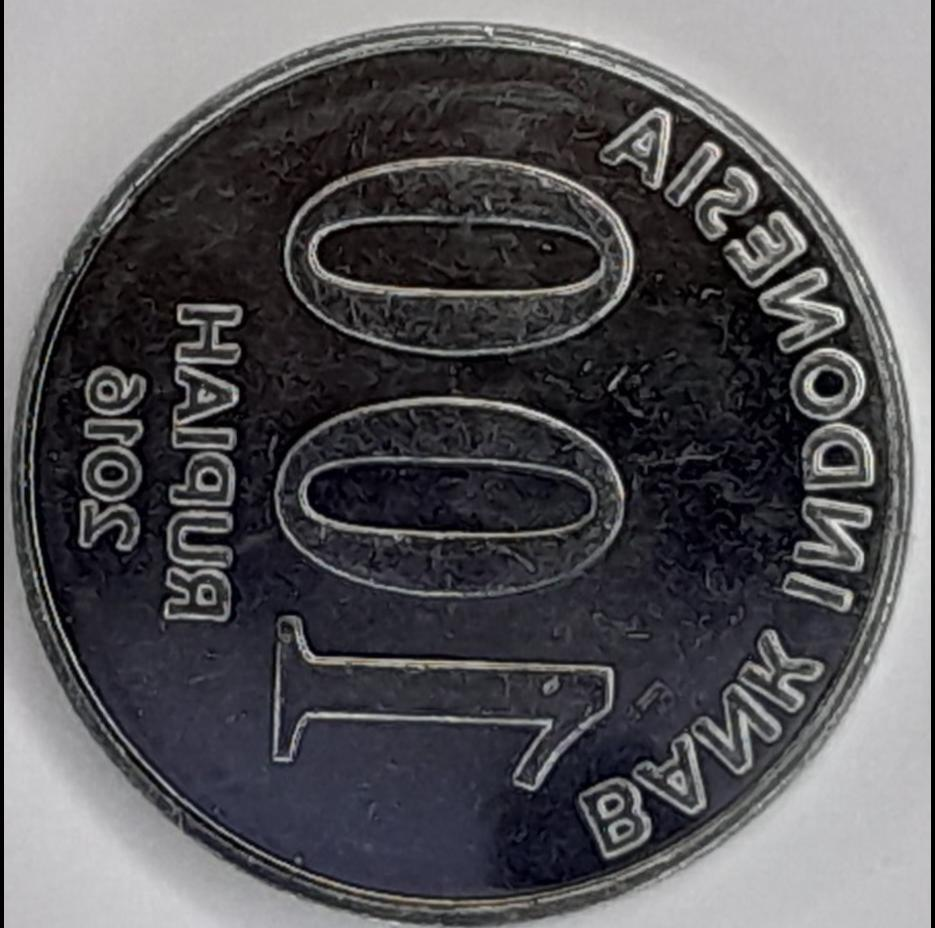coin_100_e2016: (8, 16, 917, 925)
